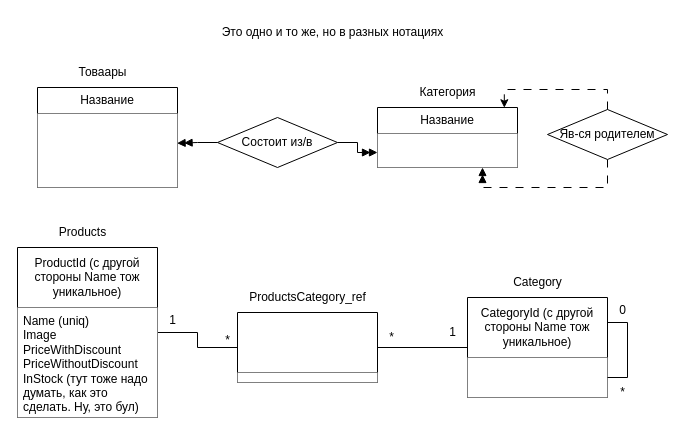
Image size: 685x437. Some labels were removed from this diagram. The shapes that lost their labels are listed below. From the top down, each one's centre as x and y in pixels, then its label:
pixel 107 150: Картинка Цена без скидки Цена со скидкой В наличии
pixel 307 347: ProductId (FK) CategoryId (FK)
pixel 537 377: Name (uniq) ParentId (FK, null)
